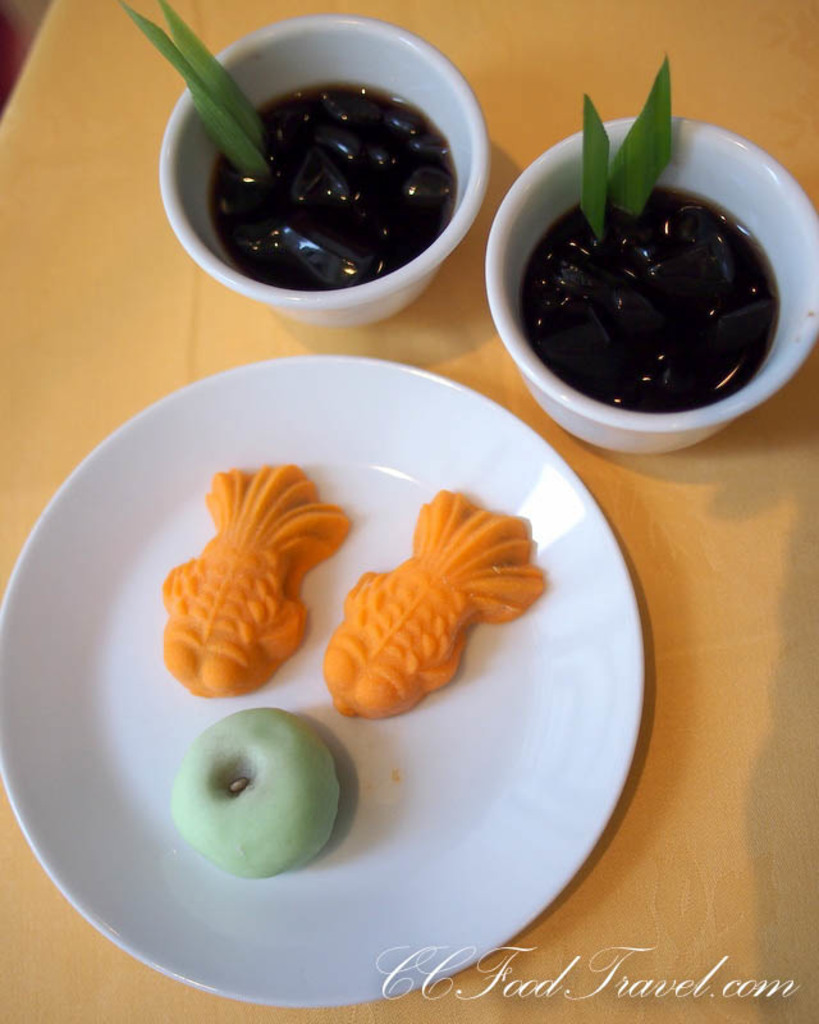Apple: (166, 706, 333, 878)
